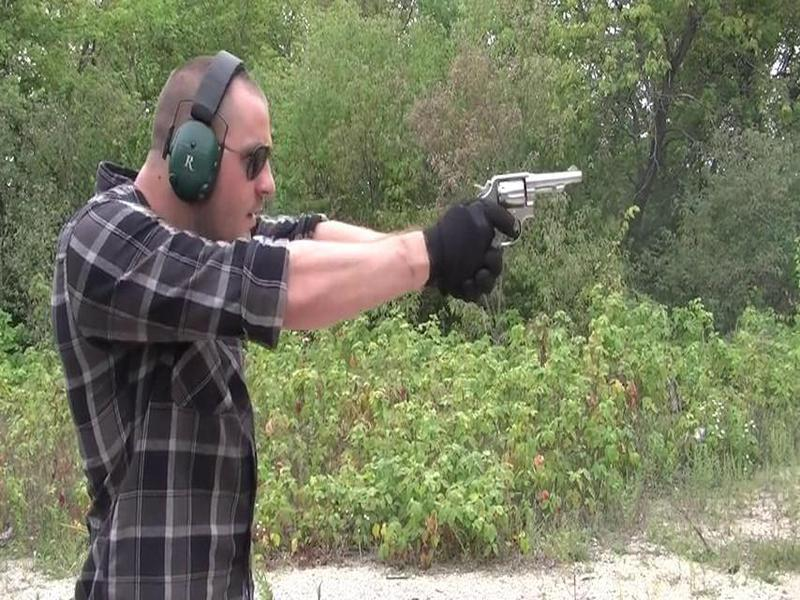Revolver: (455, 144, 584, 253)
